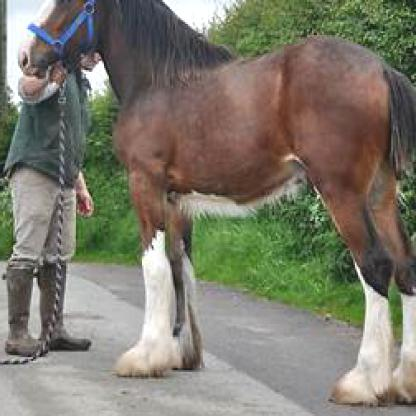horse: (15, 0, 415, 409)
